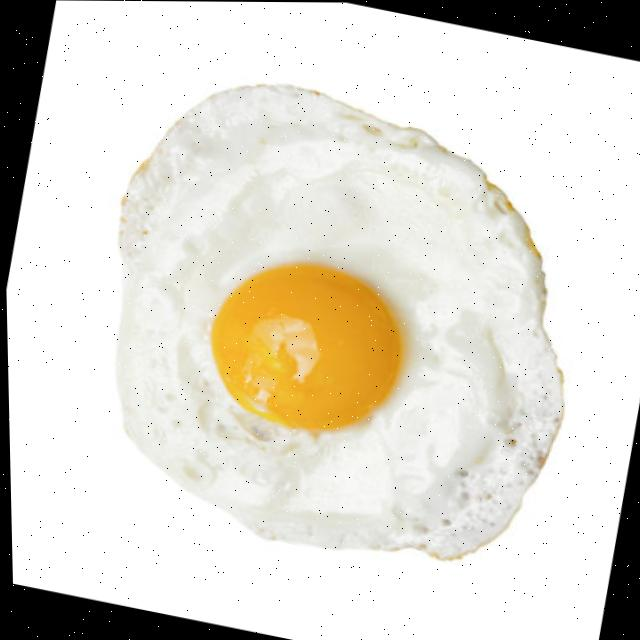Egg: (115, 84, 560, 557)
